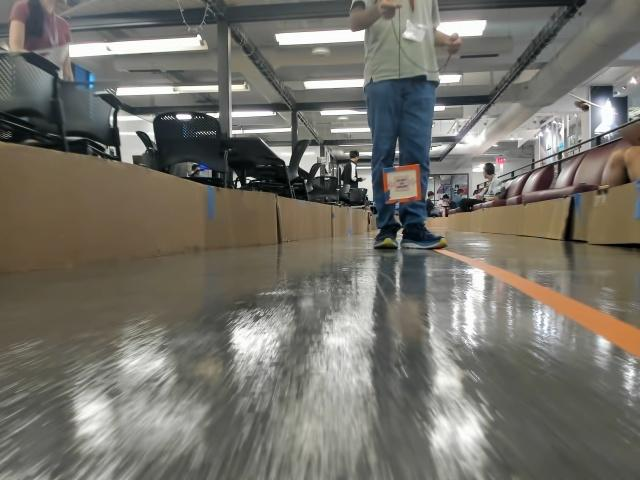Do Not Go Around: (388, 177, 414, 192)
